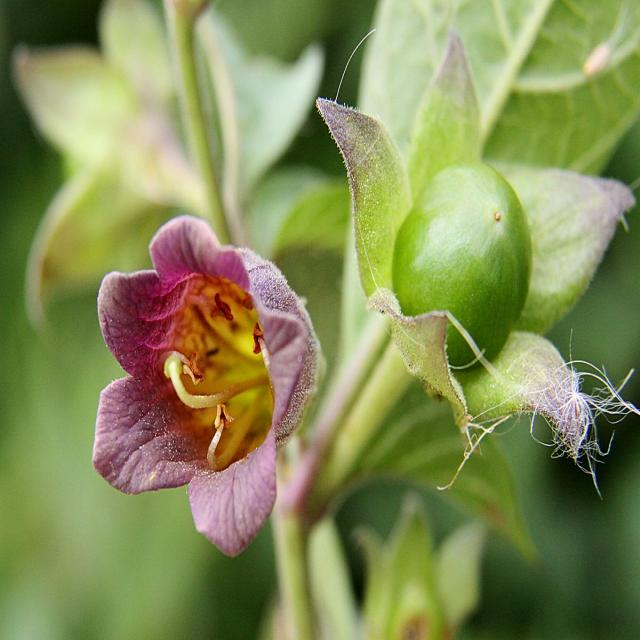Belladonna: (304, 32, 640, 483), (105, 149, 323, 526)
